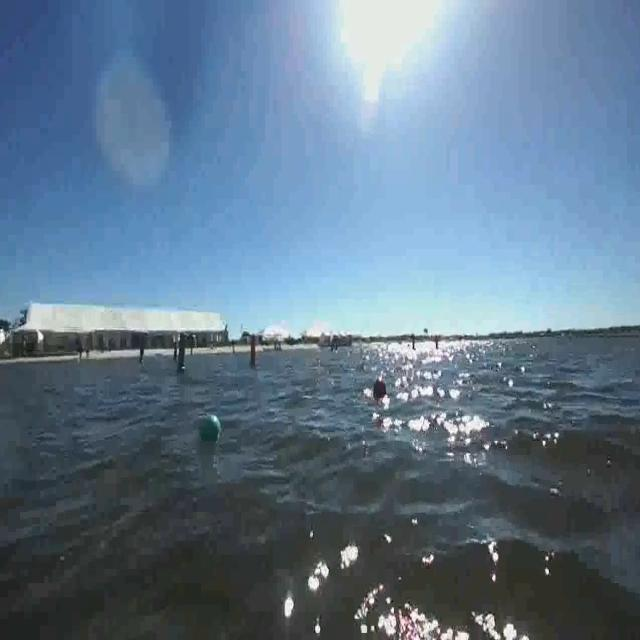green-buoy: (200, 414, 222, 444)
green-column-buoy: (179, 338, 190, 372), (138, 345, 146, 365)
red-buoy: (370, 373, 388, 400)
red-column-buoy: (247, 334, 258, 368)
